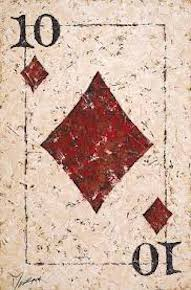TenOfDiamonds: (1, 1, 191, 290)
